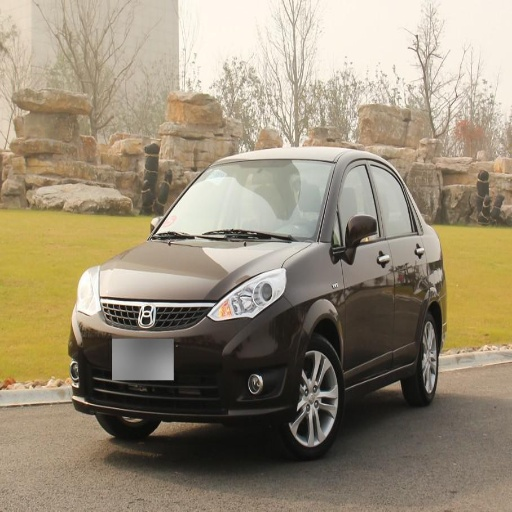front_bumper: (72, 289, 301, 421)
front_glass: (152, 160, 334, 239)
front_left_door: (331, 157, 393, 371)
